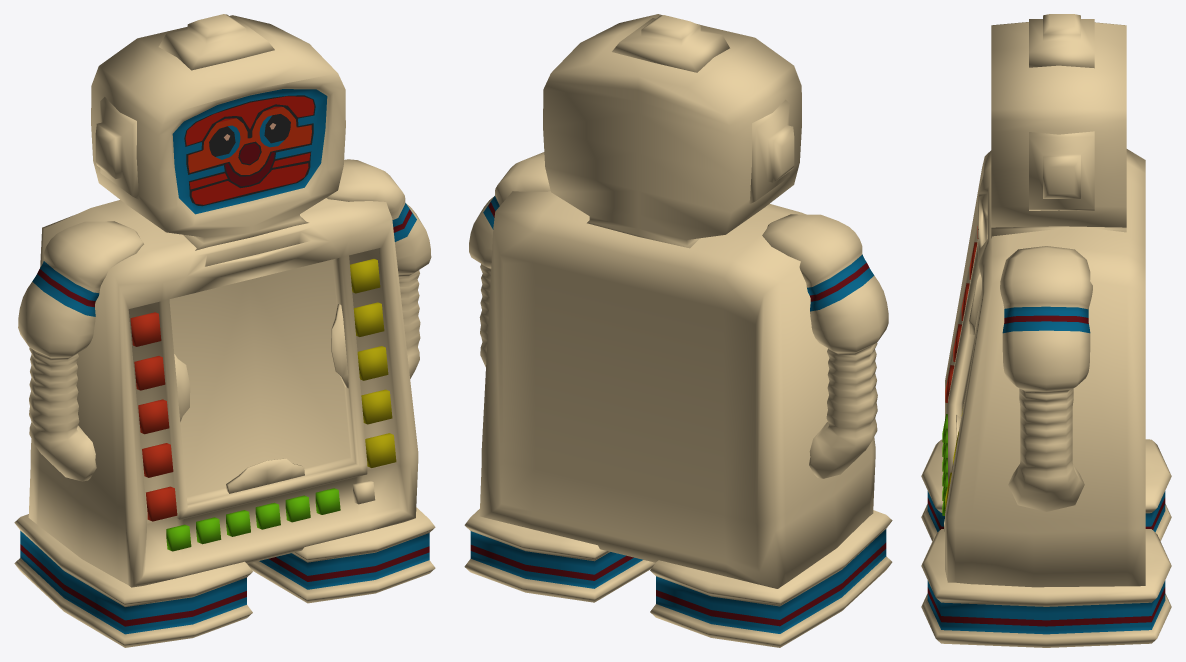
The model's file is AlphieII.dae.
3 renders of one model, left to right at view 1: azimuth 30°, elevation 25°; view 2: azimuth 150°, elevation 25°; view 3: azimuth 270°, elevation 25°, orthographic.
Parts seen in each view (by area): view 1: Alphie-Body; view 2: Alphie-Body; view 3: Alphie-Body.
Boxes of the visible parts, x1,y1,x2,y2 form: Alphie-Body: (14,14,435,647); Alphie-Body: (464,14,892,647); Alphie-Body: (921,14,1171,647).
Bounding box in the file's own units: 4.95 × 2.71 × 6.53.
